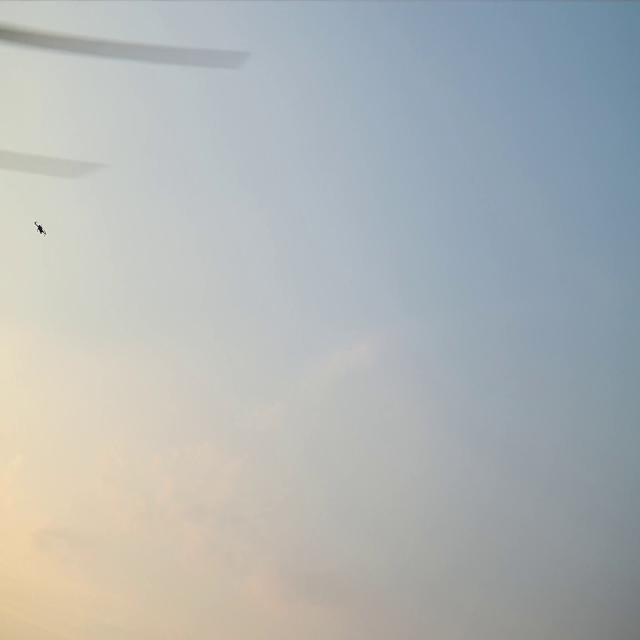UAV: (35, 222, 45, 235)
